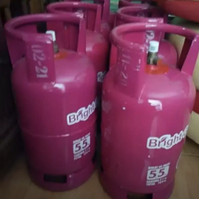bright_gas: (101, 23, 198, 200), (6, 15, 98, 193), (112, 6, 176, 104), (46, 3, 107, 75)
